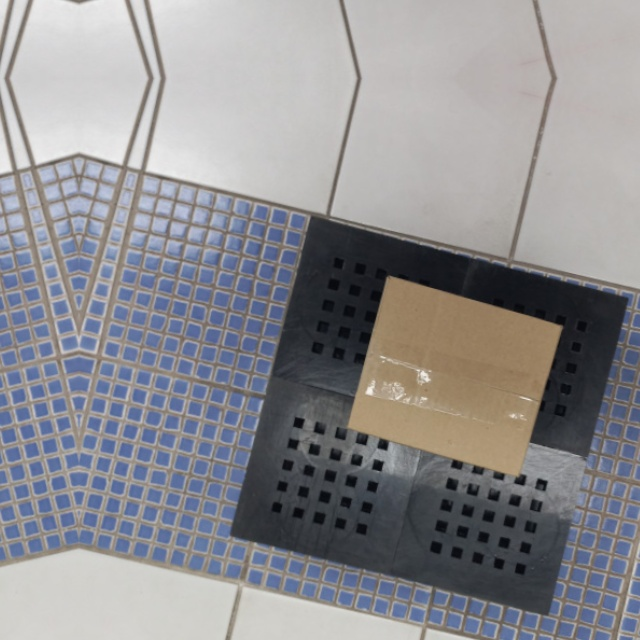box: (338, 267, 564, 488)
pallet: (219, 205, 638, 623)
